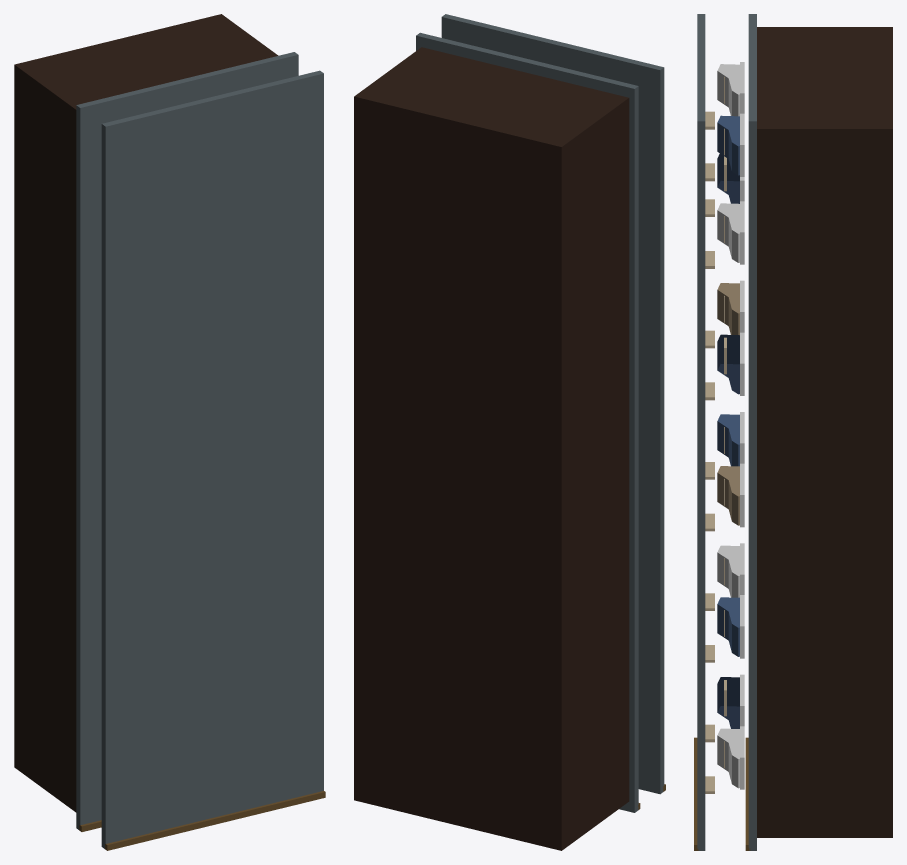
The model's file is SM_BSW_Department_ShoeDisplay_Long_A.obj.
3 renders of one model, left to right at view 1: azimuth 30°, elevation 25°; view 2: azimuth 150°, elevation 25°; view 3: azimuth 270°, elevation 25°, orthographic.
Parts seen in each view (by area): view 1: SM_BSW_Department_ShoeDisplay_Long_A; view 2: SM_BSW_Department_ShoeDisplay_Long_A; view 3: SM_BSW_Department_ShoeDisplay_Long_A.
Part boxes in pixels (x1,y1,x2,y2): SM_BSW_Department_ShoeDisplay_Long_A: (14,14,325,850); SM_BSW_Department_ShoeDisplay_Long_A: (354,14,665,850); SM_BSW_Department_ShoeDisplay_Long_A: (694,14,892,850).
Size of the model in its own units: 158 by 500 by 124.
